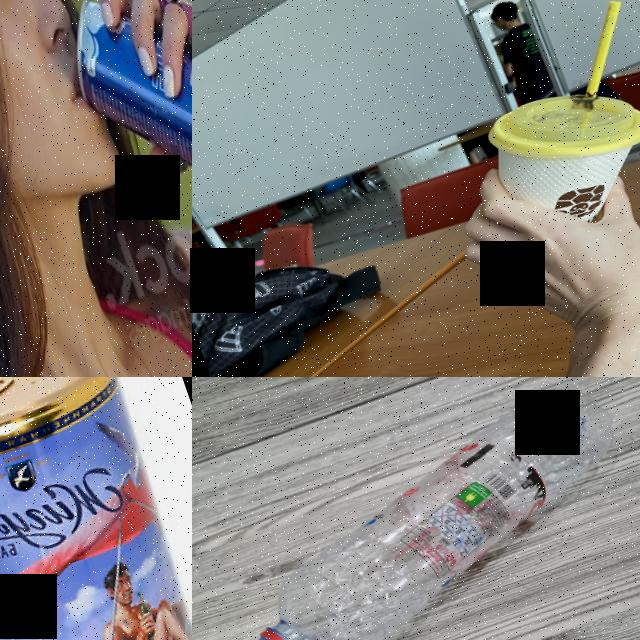bottle: (192, 377, 640, 640)
can: (0, 377, 192, 640), (46, 0, 192, 263)
cup: (450, 68, 640, 281)
